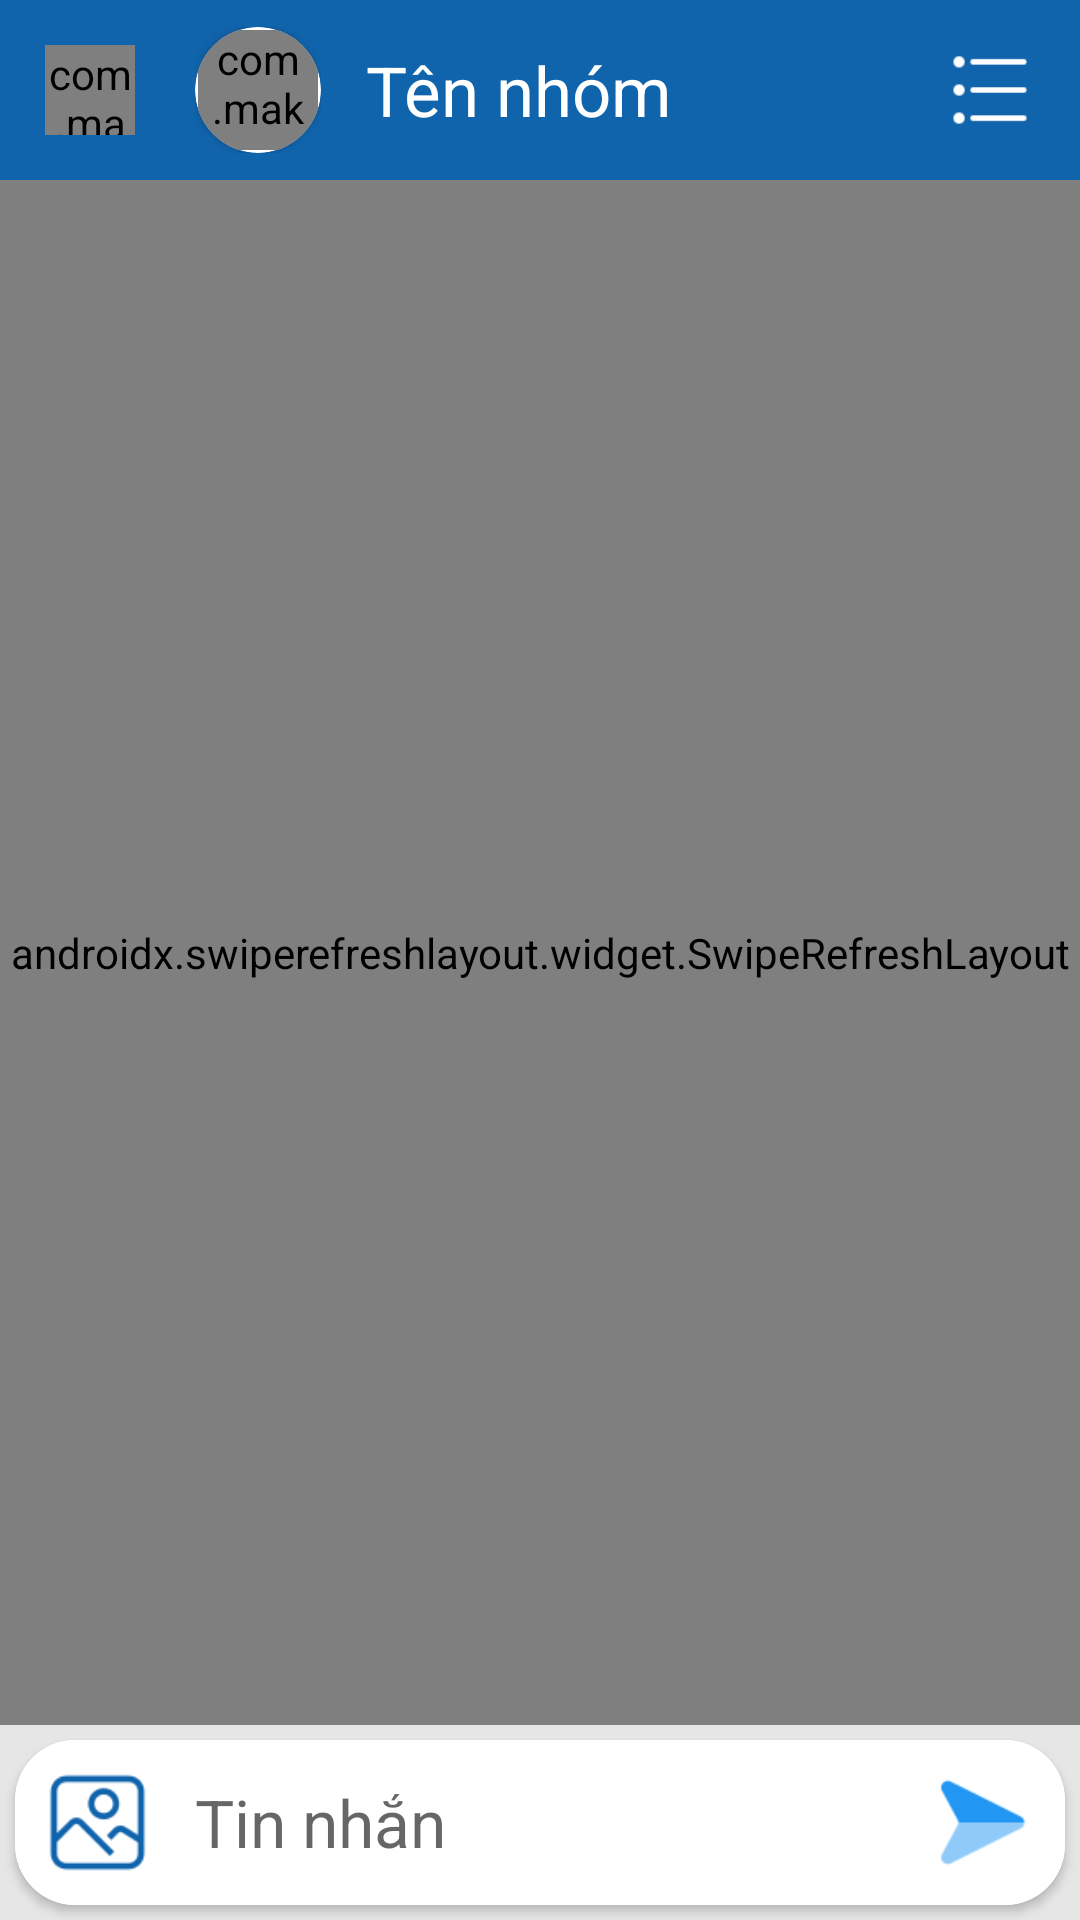

Where to tap for icons on this 1080 × 1920 app screen, as (x,y):
opt menu: (990,90)
photo msg: (97,1822)
send: (983,1822)
